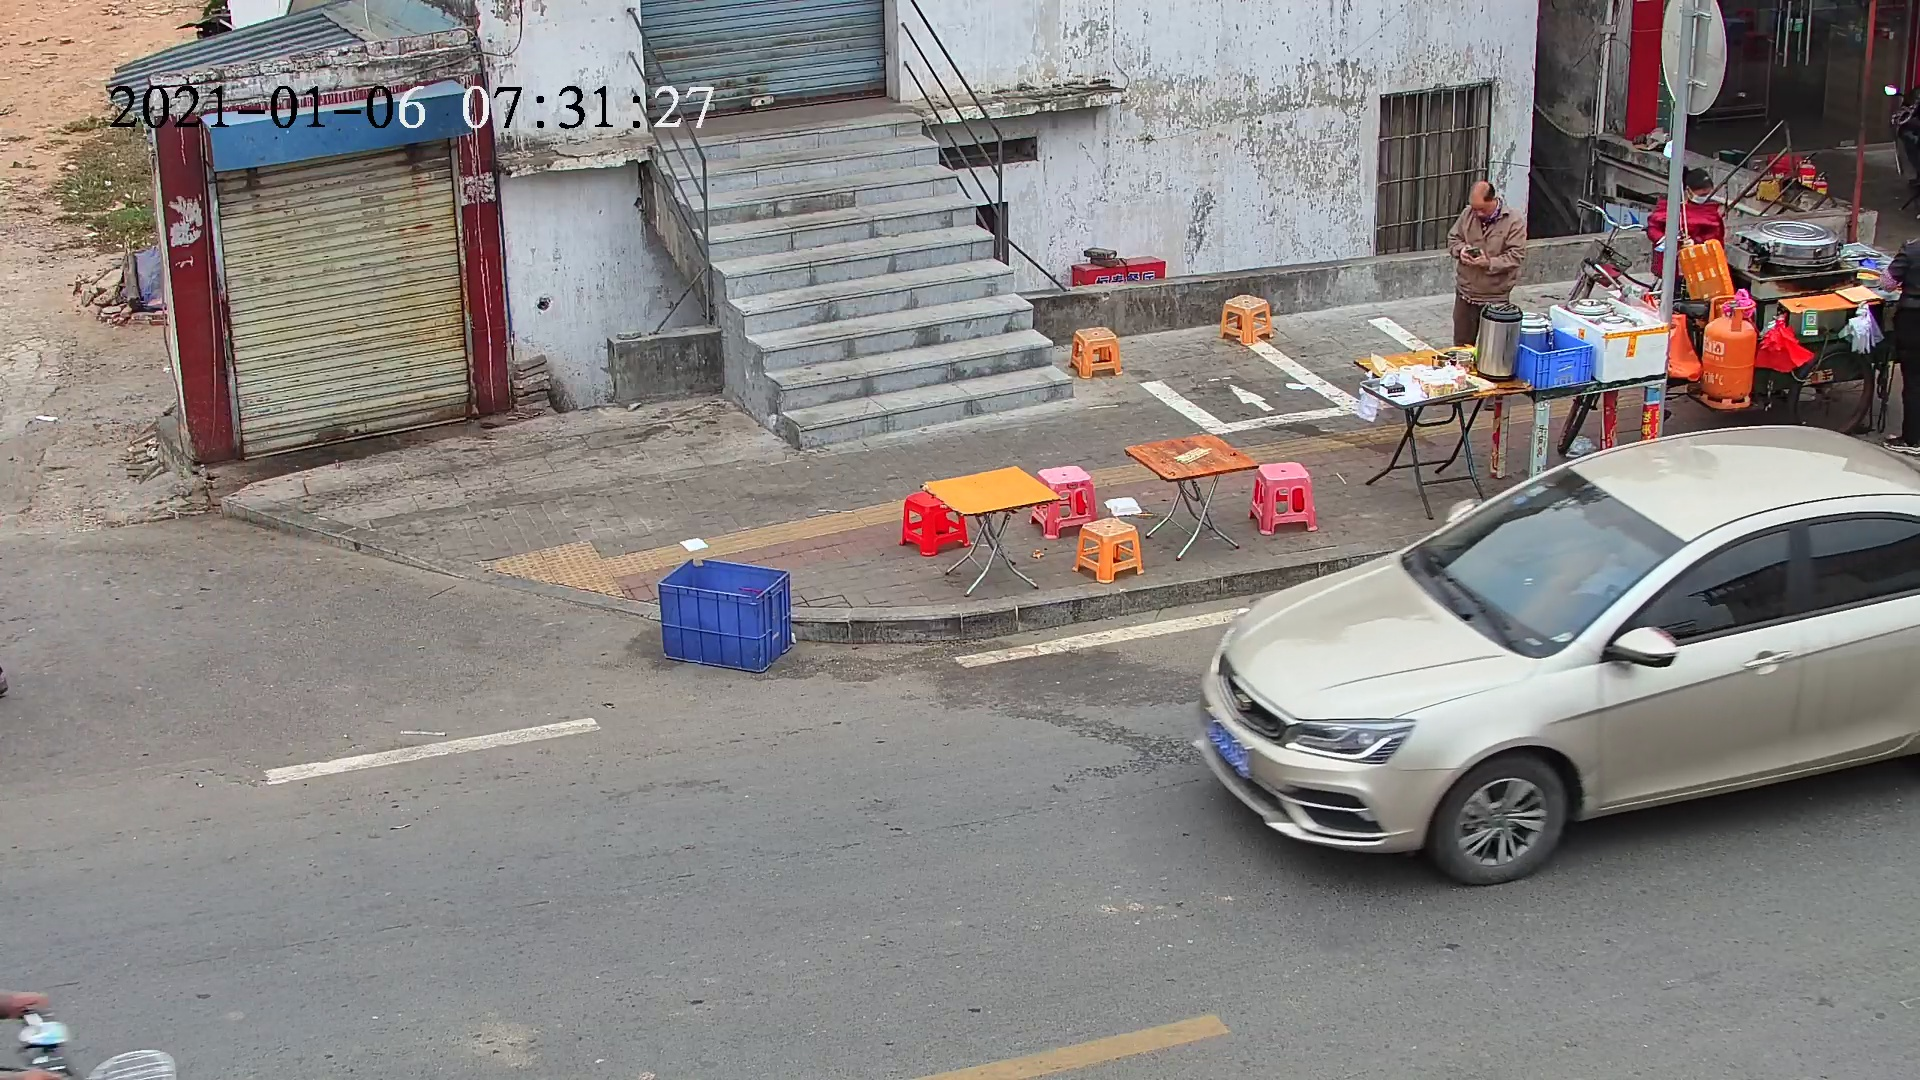chair: (1250, 460, 1324, 535), (1026, 464, 1098, 539), (1071, 516, 1145, 583), (898, 491, 971, 556), (1065, 319, 1124, 378), (1216, 295, 1274, 347)
table: (919, 465, 1063, 597), (1121, 431, 1261, 562)
table_chair: (895, 462, 1149, 600), (1120, 429, 1327, 566)
